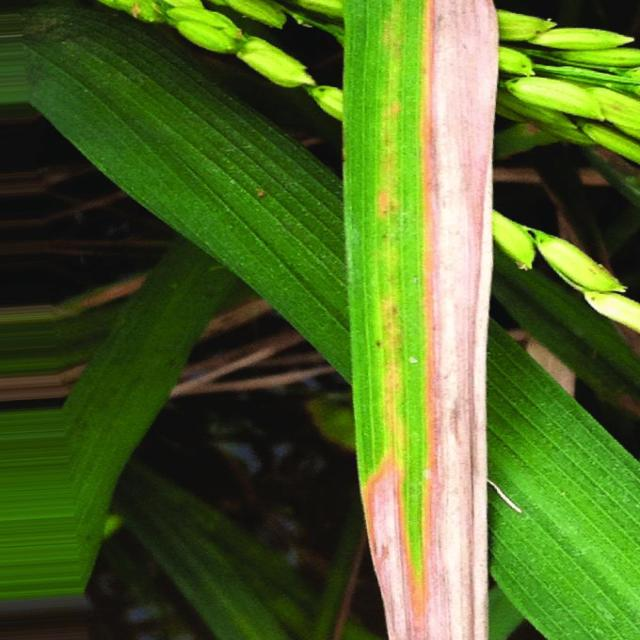Bacterial_Leaf_Blight: (426, 0, 498, 640), (364, 462, 416, 639)
